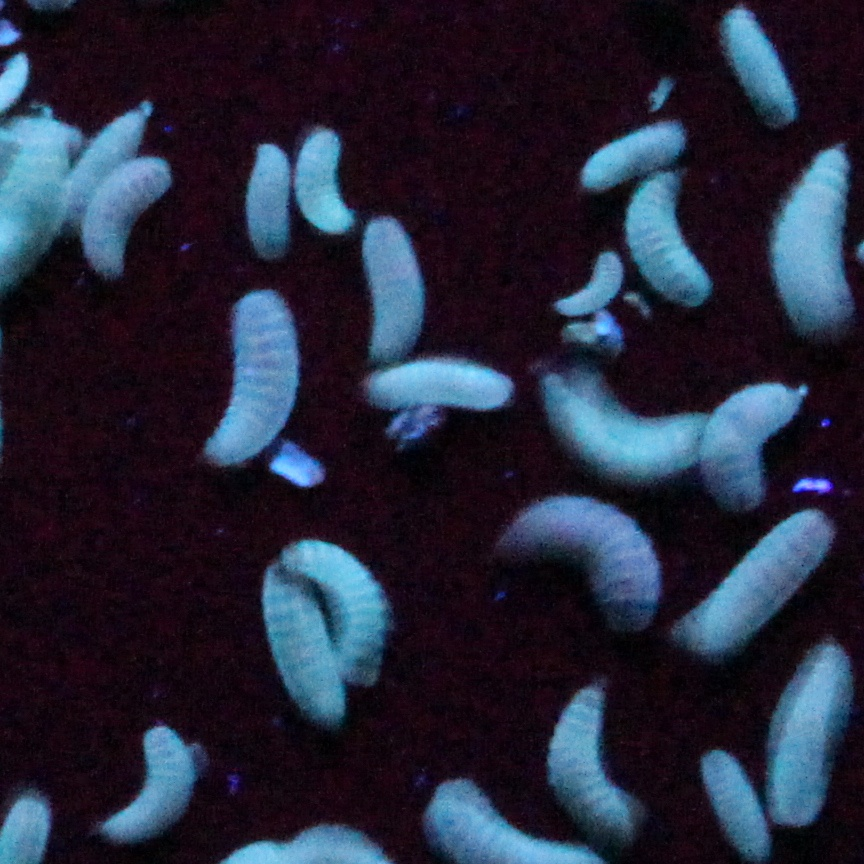larve: (535, 363, 695, 481), (685, 522, 831, 649), (526, 502, 659, 630), (545, 680, 647, 845), (210, 284, 299, 467), (285, 530, 389, 683), (254, 560, 348, 728), (778, 149, 859, 336), (706, 374, 814, 514), (100, 711, 197, 843), (627, 170, 717, 311), (775, 661, 848, 821), (69, 97, 158, 225), (80, 157, 168, 274), (721, 0, 797, 125), (361, 212, 421, 361), (693, 747, 768, 860), (582, 112, 683, 187), (361, 371, 517, 415), (299, 125, 352, 233), (247, 140, 292, 254), (561, 247, 621, 321)
